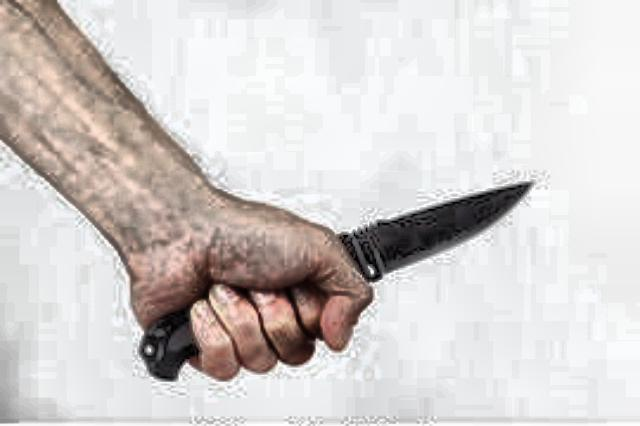knife: (220, 169, 540, 353)
